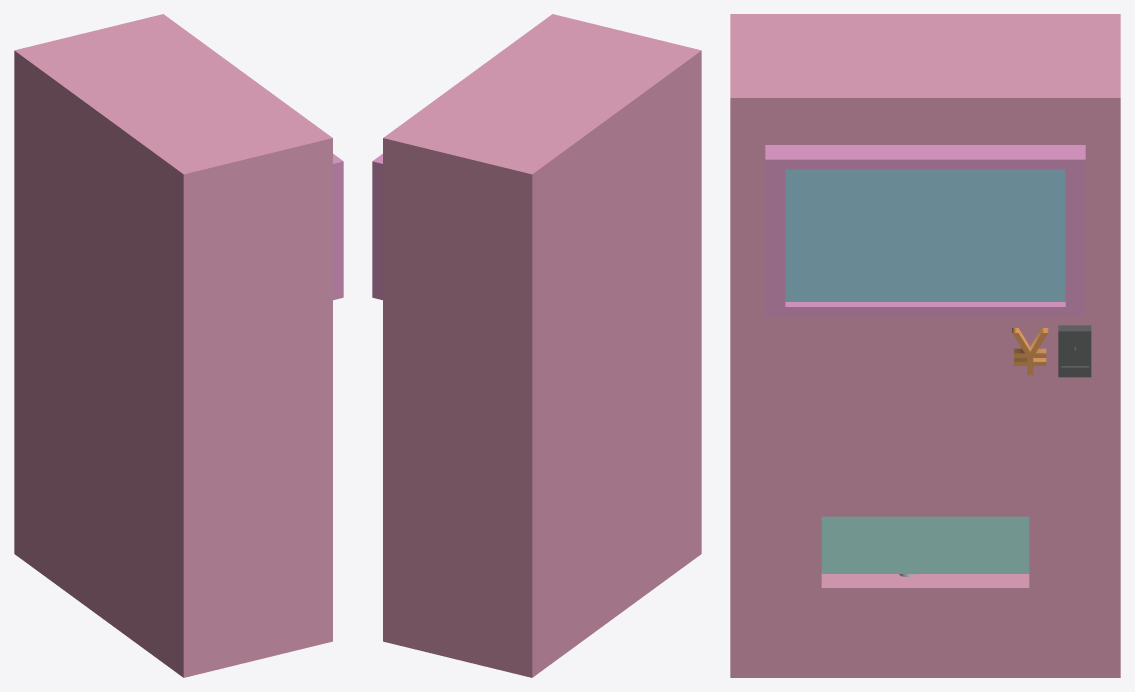
Rendered from Vending Machine.fbx.
3 views of the same model, side by side, from view 1: azimuth 30°, elevation 25°; view 2: azimuth 150°, elevation 25°; view 3: azimuth 270°, elevation 25° (orthographic). The views are drawn at different scales.
Visible parts, largest first — view 1: Cube, Cube.001; view 2: Cube, Cube.001; view 3: Cube, Plane, Cube.001, Cube.006, Cube.003, Text.
Boxes of the visible parts, box(x1,y1,x2,y2) form: Cube: box(14, 14, 332, 677); Cube.001: box(333, 154, 343, 300); Cube: box(383, 14, 701, 677); Cube.001: box(372, 154, 382, 300); Cube: box(730, 14, 1120, 677); Plane: box(785, 169, 1065, 301); Cube.001: box(765, 145, 1085, 316); Cube.006: box(821, 516, 1029, 573); Cube.003: box(1058, 325, 1091, 377); Text: box(1012, 328, 1048, 375).
Size of the model in its own units: 72.86 by 200 by 122.
